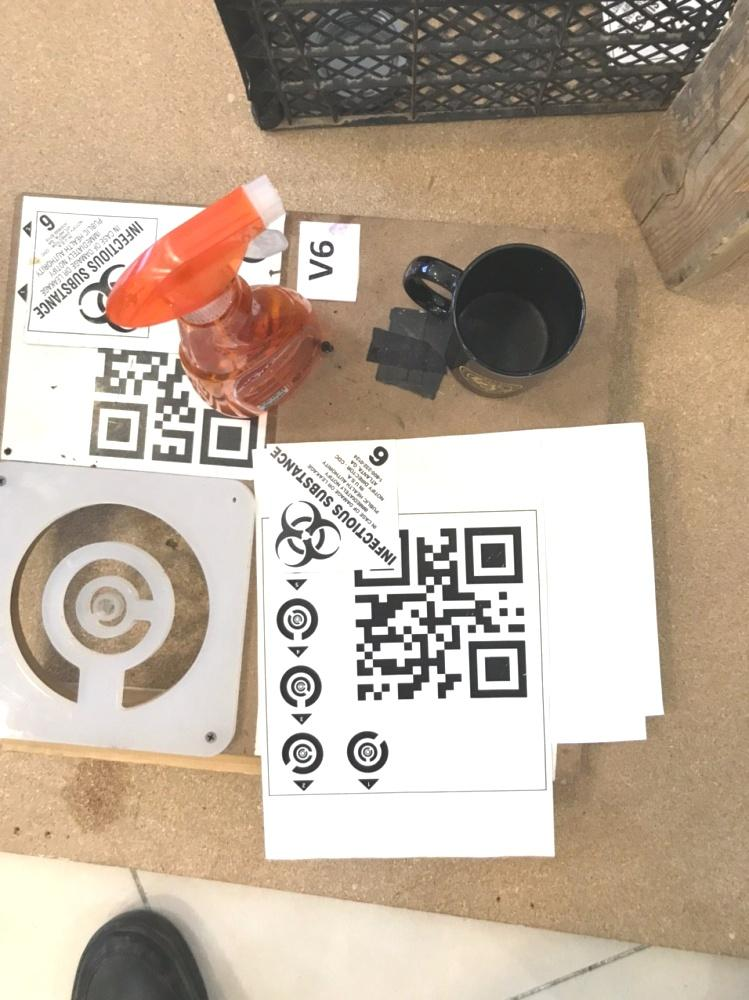infectious-substance: (24, 204, 167, 347), (260, 441, 404, 574)
